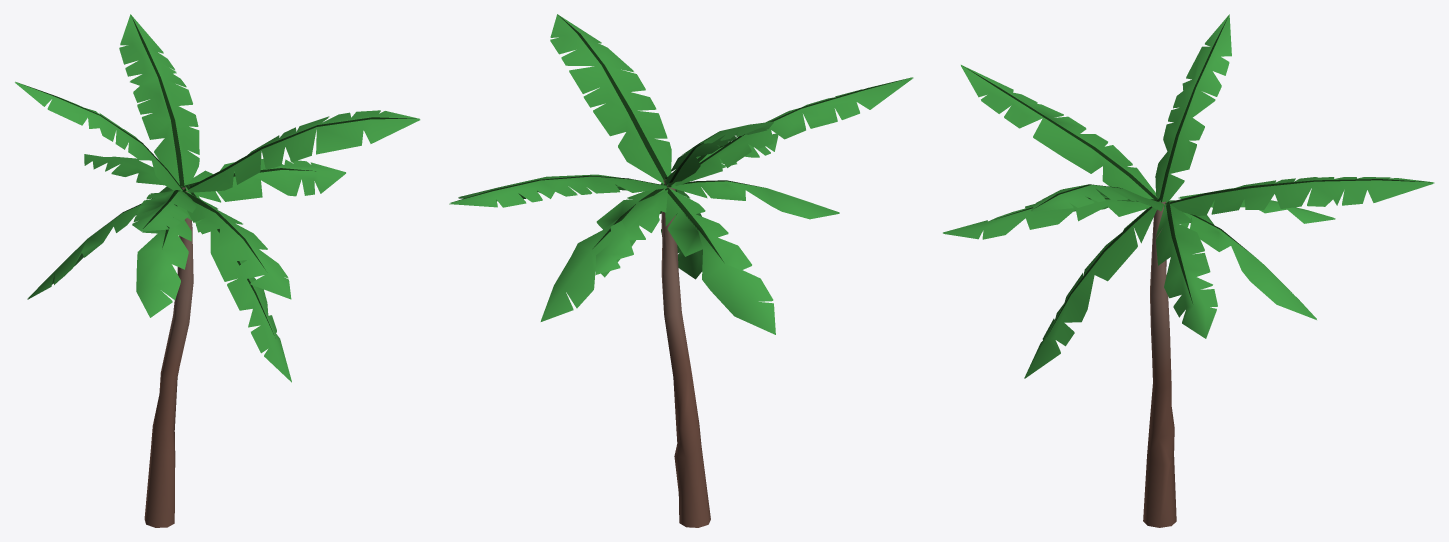
File: M_yezishu01.FBX
3 views of the same model, side by side, from view 1: azimuth 30°, elevation 25°; view 2: azimuth 150°, elevation 25°; view 3: azimuth 270°, elevation 25° (orthographic). The views are drawn at different scales.
Visible parts, largest first — view 1: M_yezishu01_shuye01, M_yezishu01_shugan01; view 2: M_yezishu01_shuye01, M_yezishu01_shugan01; view 3: M_yezishu01_shuye01, M_yezishu01_shugan01.
Part boxes in pixels (bbox=[...]): M_yezishu01_shuye01: bbox=[15, 14, 420, 382]; M_yezishu01_shugan01: bbox=[144, 187, 193, 527]; M_yezishu01_shuye01: bbox=[449, 14, 913, 334]; M_yezishu01_shugan01: bbox=[661, 179, 710, 527]; M_yezishu01_shuye01: bbox=[943, 14, 1434, 378]; M_yezishu01_shugan01: bbox=[1143, 201, 1176, 527].
Bounding box in the file's own units: 14.07 × 18.27 × 18.06.
